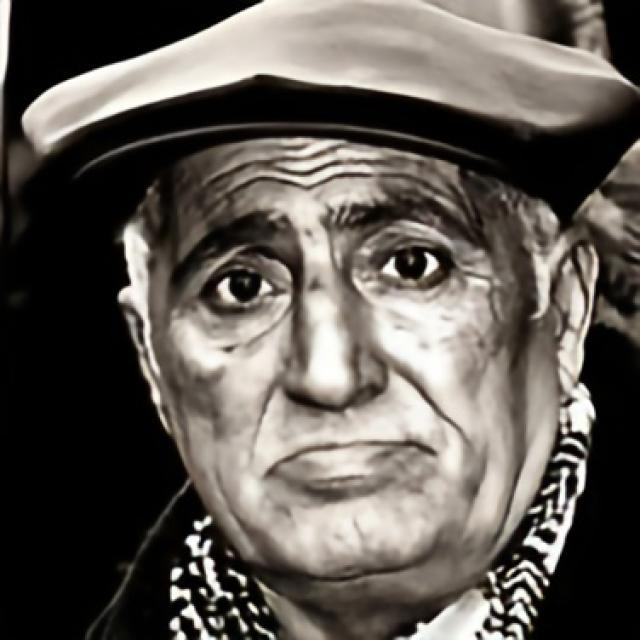sad: (146, 131, 538, 579)
